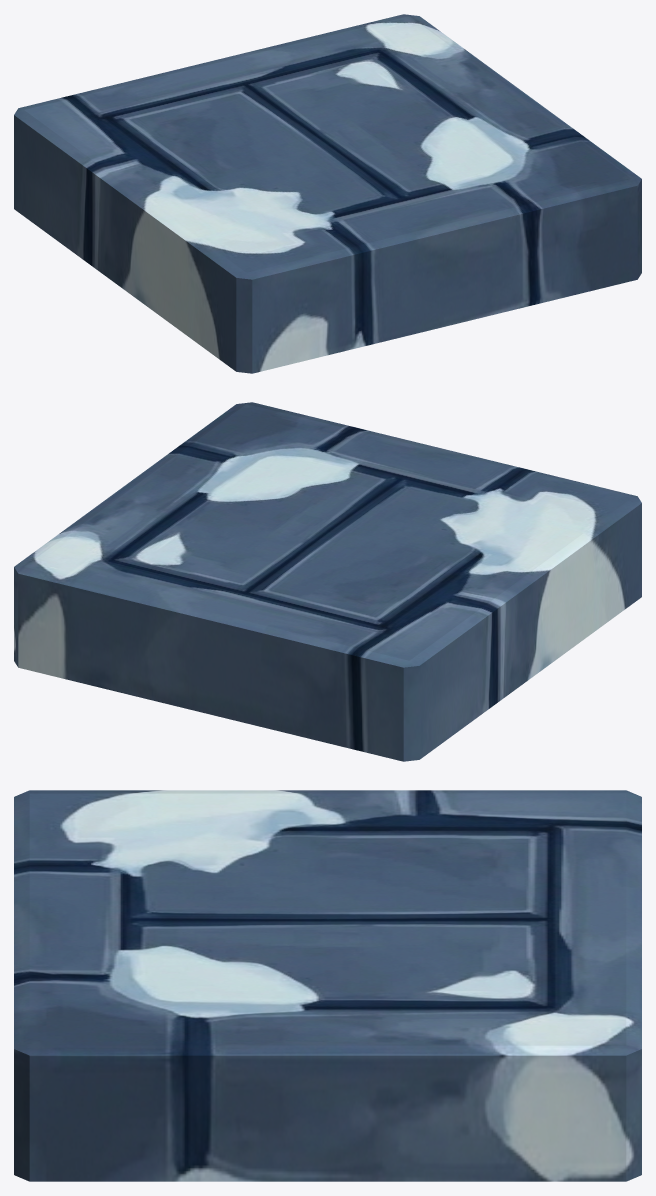
Rendered from stoneTiles06.glb.
3 renders of one model, top to bottom at view 1: azimuth 30°, elevation 25°; view 2: azimuth 150°, elevation 25°; view 3: azimuth 270°, elevation 25°, orthographic. The views are drawn at different scales.
Visible parts, largest first — view 1: StoneTiles06; view 2: StoneTiles06; view 3: StoneTiles06.
Boxes of the visible parts, x1=… form: StoneTiles06: x1=14, y1=14, x2=641, y2=373; StoneTiles06: x1=14, y1=402, x2=641, y2=761; StoneTiles06: x1=14, y1=790, x2=641, y2=1181.
Bounding box in the file's own units: 3 × 0.7 × 3.
1 material, 1 textured.
